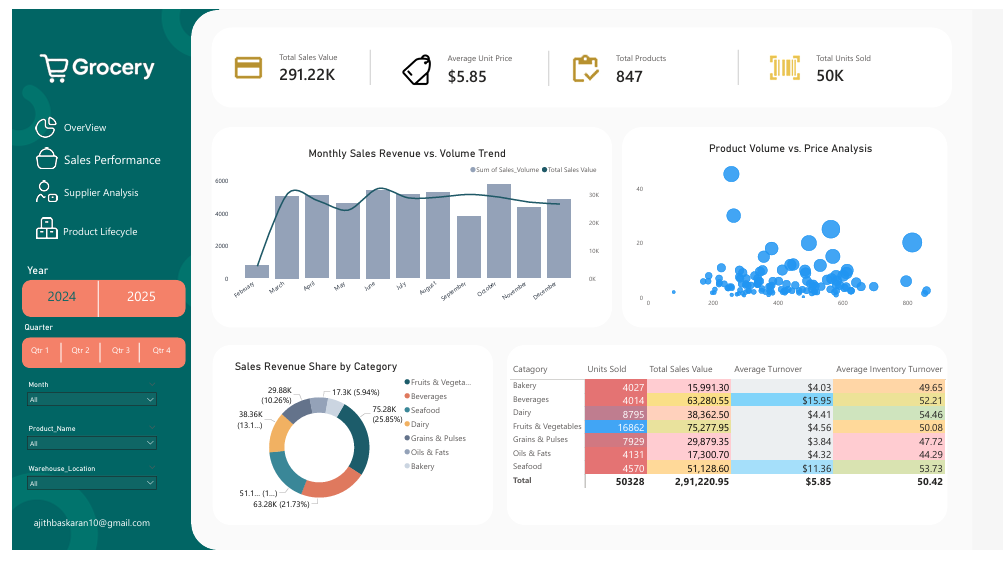

What the dashboard file says about the page in this screenshot:
{"tool":"powerbi","page":{"name":"Sales Performance","canvas":[1980,1080],"ordinal":1},"visuals":[{"type":"shape","box":[357.8,0,1561.4,1080],"z":0},{"type":"cardVisual","fields":{"Data":["Key Measures.Total Sales Value"]},"box":[505.3,45.5,210.4,138.8],"z":0,"group":"g1"},{"type":"cardVisual","fields":{"Data":["Key Measures.Total Units Sold"]},"box":[1577.6,51.6,242.9,132.3],"z":0,"group":"g4"},{"type":"cardVisual","fields":{"Data":["Key Measures.Average Unit Price"]},"box":[841.5,54.2,210.4,130.1],"z":0,"group":"g3"},{"type":"cardVisual","fields":{"Data":["Key Measures.Total Products"]},"box":[1177.6,54.2,273.3,130.1],"z":0,"group":"g2"},{"type":"shape","box":[399,34.7,1479,160.5],"z":1000},{"type":"image","box":[440.2,82.4,65.1,65.1],"z":1000,"group":"g1"},{"type":"image","box":[1511.6,82.4,65.1,65.1],"z":1000,"group":"g4"},{"type":"image","box":[776.4,86.7,65.1,65.1],"z":1000,"group":"g3"},{"type":"image","box":[1112.5,86.7,65.1,65.1],"z":1000,"group":"g2"},{"type":"group","id":"g1","title":"Group 1","box":[440.2,45.5,275.4,138.8],"z":2000},{"type":"group","id":"g2","title":"Group 3","box":[1112.5,54.2,338.3,130.1],"z":3000},{"type":"group","id":"g3","title":"Group 2","box":[776.4,54.2,275.4,130.1],"z":4000},{"type":"group","id":"g4","title":"Group 4","box":[1511.6,51.6,308.9,132.3],"z":5000},{"type":"shape","box":[676.6,80.2,78.1,69.4],"z":6000},{"type":"shape","box":[1411.8,80.2,78.1,69.4],"z":7000},{"type":"shape","box":[1032.3,82.4,80.2,69.4],"z":8000},{"type":"shape","box":[399,234.2,800.2,401.2],"z":9000},{"type":"shape","box":[1218.8,234.2,650.6,401.2],"z":10000},{"type":"shape","box":[401.2,670.1,559.5,360],"z":11000},{"type":"shape","box":[988.9,670.1,880.5,360],"z":12000},{"type":"image","box":[19.5,17.3,299.3,199.5],"z":13000},{"type":"image","box":[34.7,212.5,67.2,43.4],"z":14000},{"type":"image","box":[47.7,275.4,43.4,43.4],"z":15000},{"type":"image","box":[47.7,340.5,43.4,45.5],"z":16000},{"type":"image","box":[47.7,414.2,43.4,43.4],"z":17000},{"type":"shape","box":[19.5,654.9,327.5,60.7],"z":18000},{"type":"advancedSlicerVisual","fields":{"Values":["Grocery_Inventory.Date_Received.Variation.Date Hierarchy.Quarter"]},"box":[19.5,624.6,327.5,91.1],"z":19000},{"type":"shape","box":[58.6,665.8,78.1,39],"z":20000},{"type":"shape","box":[136.6,665.8,78.1,39],"z":21000},{"type":"shape","box":[214.7,665.8,78.1,39],"z":22000},{"type":"slicer","fields":{"Values":["Grocery_Inventory.Date_Received.Variation.Date Hierarchy.Month"]},"box":[19.5,737.3,279.8,69.4],"z":23000},{"type":"slicer","fields":{"Values":["Grocery_Inventory.Product_Name"]},"box":[19.5,824.1,279.8,69.4],"z":24000},{"type":"textbox","box":[8.7,1008.4,301.4,43.4],"z":25000},{"type":"pivotTable","fields":{"Rows":["Grocery_Inventory.Catagory"],"Values":["Sum(Grocery_Inventory.Sales_Volume)","Key Measures.Total Sales Value","Key Measures.Average Unit Price","Key Measures.Average Turnover Ratio"]},"box":[991.1,700.5,887,294.9],"z":26000},{"type":"donutChart","title":"Sales Revenue Share by Category","fields":{"Category":["Grocery_Inventory.Catagory"],"Y":["Key Measures.Total Sales Value"]},"box":[440.2,700.5,492.3,325.3],"z":27000},{"type":"lineStackedColumnComboChart","title":"Monthly Sales Revenue vs. Volume Trend","fields":{"Category":["Grocery_Inventory.Date_Received.Variation.Date Hierarchy.Month"],"Y":["Sum(Grocery_Inventory.Sales_Volume)"],"Y2":["Key Measures.Total Sales Value"]},"box":[401.2,275.4,776.4,329.6],"z":28000},{"type":"scatterChart","title":"Product Volume vs. Price Analysis","fields":{"X":["Sum(Grocery_Inventory.Sales_Volume)"],"Y":["Avg(Grocery_Inventory.Unit_Price)"],"Size":["Key Measures.Total Sales Value"],"Category":["Grocery_Inventory.Product_Name"]},"box":[1242.7,264.6,626.7,340.5],"z":29000},{"type":"slicer","fields":{"Values":["Grocery_Inventory.Warehouse_Location"]},"box":[19.5,904.3,279.8,69.4],"z":30000},{"type":"shape","box":[104.1,201.7,214.7,65.1],"z":31000},{"type":"shape","box":[104.1,264.6,214.7,65.1],"z":32000},{"type":"shape","box":[104.1,331.8,214.7,65.1],"z":33000},{"type":"shape","box":[101.9,409.9,214.7,65.1],"z":34000},{"type":"shape","box":[19.5,540,327.5,73.7],"z":34001},{"type":"group","id":"g5","title":"Group 5","box":[24.9,508.6,321,105],"z":34002},{"type":"advancedSlicerVisual","fields":{"Values":["Grocery_Inventory.Date_Received.Variation.Date Hierarchy.Year"]},"box":[24.9,508.6,321,101.9],"z":37000,"group":"g5"},{"type":"shape","box":[131.4,542,82.4,71.6],"z":38000,"group":"g5"}]}

Visuals, with their boxes on the page's 1980x1080 design canvas (x1, y1, x2, y2). These are canvas units, not pixel positions in the 1008x562 screenshot, which may show the page scaled, cropped or inside an application window:
shape: box=[358, 0, 1919, 1080]
cardVisual - Key Measures.Total Sales Value: box=[505, 46, 716, 184]
cardVisual - Key Measures.Total Units Sold: box=[1578, 52, 1820, 184]
cardVisual - Key Measures.Average Unit Price: box=[842, 54, 1052, 184]
cardVisual - Key Measures.Total Products: box=[1178, 54, 1451, 184]
shape: box=[399, 35, 1878, 195]
image: box=[440, 82, 505, 148]
image: box=[1512, 82, 1577, 148]
image: box=[776, 87, 842, 152]
image: box=[1112, 87, 1178, 152]
"Group 1" group: box=[440, 46, 716, 184]
"Group 3" group: box=[1112, 54, 1451, 184]
"Group 2" group: box=[776, 54, 1052, 184]
"Group 4" group: box=[1512, 52, 1820, 184]
shape: box=[677, 80, 755, 150]
shape: box=[1412, 80, 1490, 150]
shape: box=[1032, 82, 1112, 152]
shape: box=[399, 234, 1199, 635]
shape: box=[1219, 234, 1869, 635]
shape: box=[401, 670, 961, 1030]
shape: box=[989, 670, 1869, 1030]
image: box=[20, 17, 319, 217]
image: box=[35, 212, 102, 256]
image: box=[48, 275, 91, 319]
image: box=[48, 340, 91, 386]
image: box=[48, 414, 91, 458]
shape: box=[20, 655, 347, 716]
advancedSlicerVisual - Grocery_Inventory.Date_Received.Variation.Date Hierarchy.Quarter: box=[20, 625, 347, 716]
shape: box=[59, 666, 137, 705]
shape: box=[137, 666, 215, 705]
shape: box=[215, 666, 293, 705]
slicer - Grocery_Inventory.Date_Received.Variation.Date Hierarchy.Month: box=[20, 737, 299, 807]
slicer - Grocery_Inventory.Product_Name: box=[20, 824, 299, 894]
textbox: box=[9, 1008, 310, 1052]
pivotTable - Grocery_Inventory.Catagory x Sum(Grocery_Inventory.Sales_Volume): box=[991, 700, 1878, 995]
"Sales Revenue Share by Category" donutChart: box=[440, 700, 932, 1026]
"Monthly Sales Revenue vs. Volume Trend" lineStackedColumnComboChart: box=[401, 275, 1178, 605]
"Product Volume vs. Price Analysis" scatterChart: box=[1243, 265, 1869, 605]
slicer - Grocery_Inventory.Warehouse_Location: box=[20, 904, 299, 974]
shape: box=[104, 202, 319, 267]
shape: box=[104, 265, 319, 330]
shape: box=[104, 332, 319, 397]
shape: box=[102, 410, 317, 475]
shape: box=[20, 540, 347, 614]
"Group 5" group: box=[25, 509, 346, 614]
advancedSlicerVisual - Grocery_Inventory.Date_Received.Variation.Date Hierarchy.Year: box=[25, 509, 346, 610]
shape: box=[131, 542, 214, 614]
